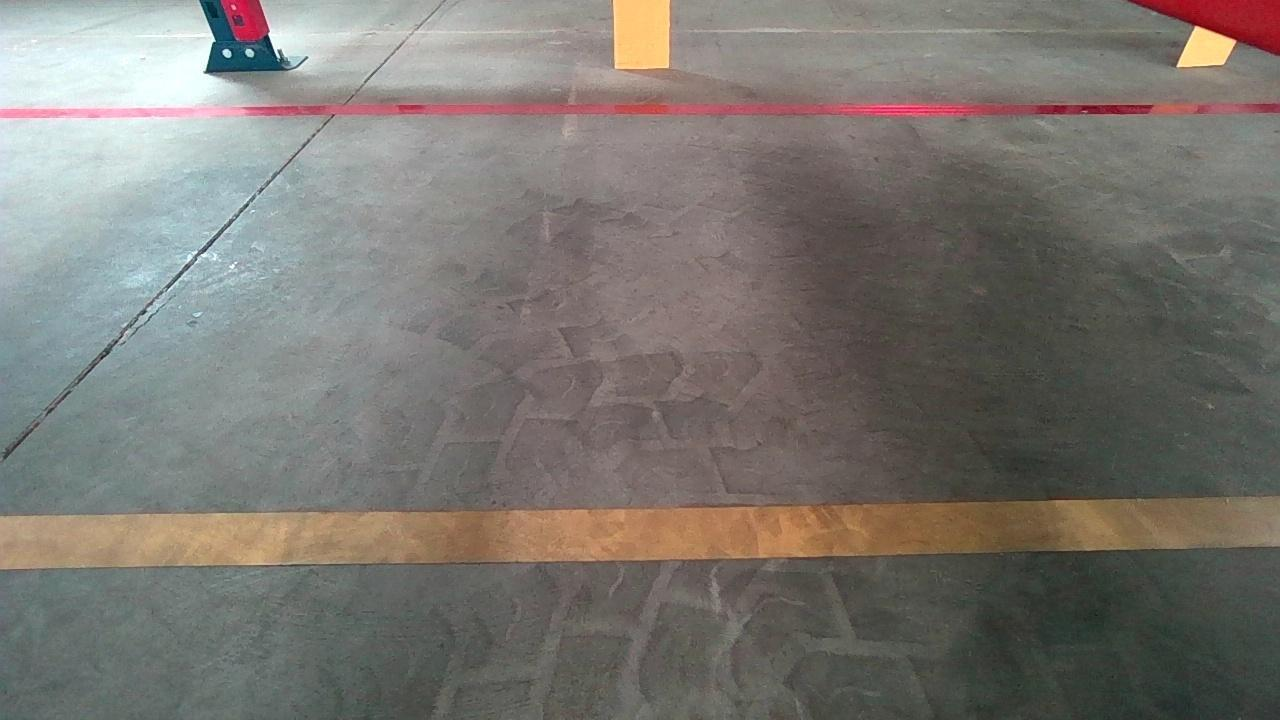yellow_line: (0, 495, 1278, 570)
